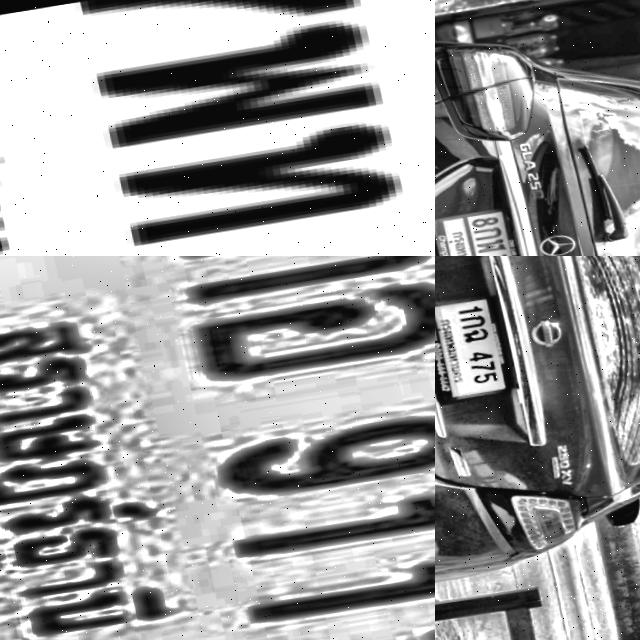license-plate: (0, 256, 435, 640), (0, 0, 435, 256), (435, 290, 523, 418), (435, 207, 519, 256)
